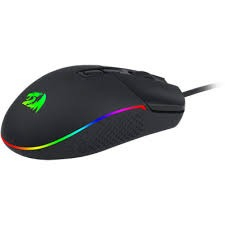mouse: (4, 56, 186, 163)
